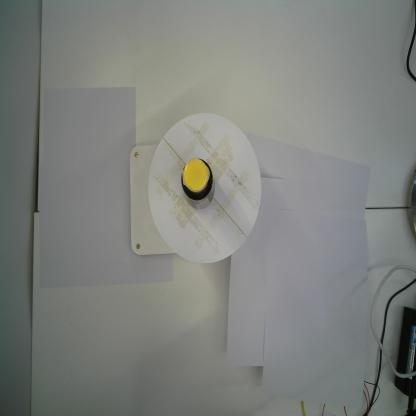Seasoner: (181, 155, 216, 212)
